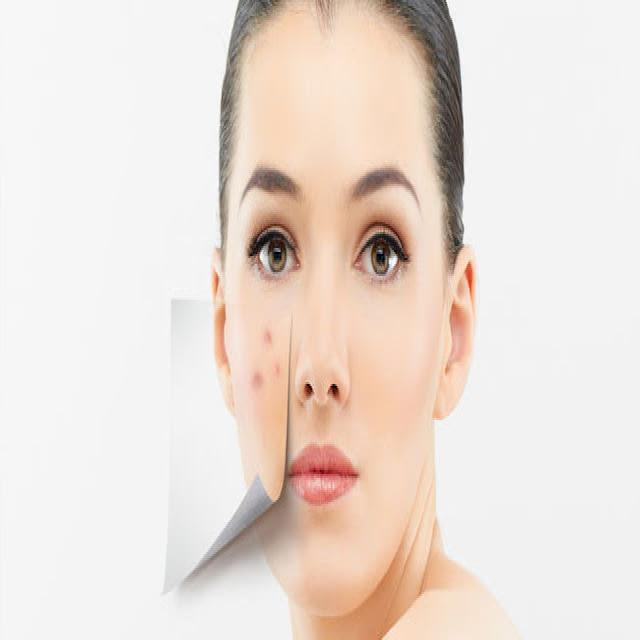Acne: (238, 310, 293, 410)
